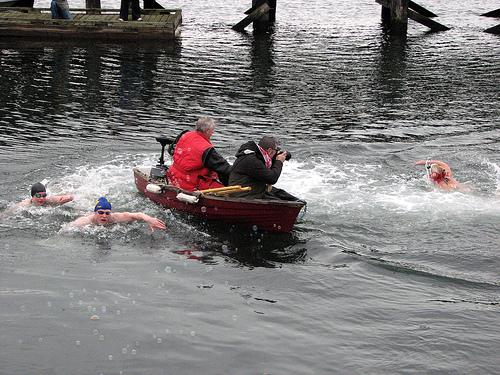human: (63, 198, 166, 236), (415, 156, 465, 192), (17, 182, 72, 210)
